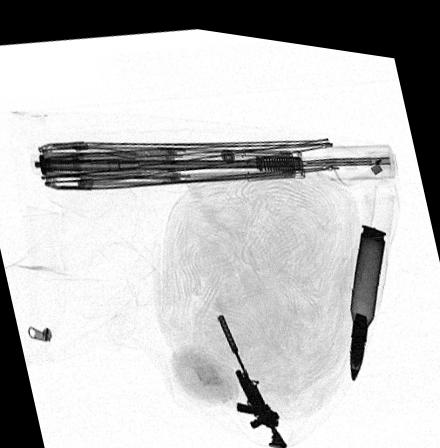Bullet: (349, 212, 385, 370)
Gun: (216, 306, 289, 439)
